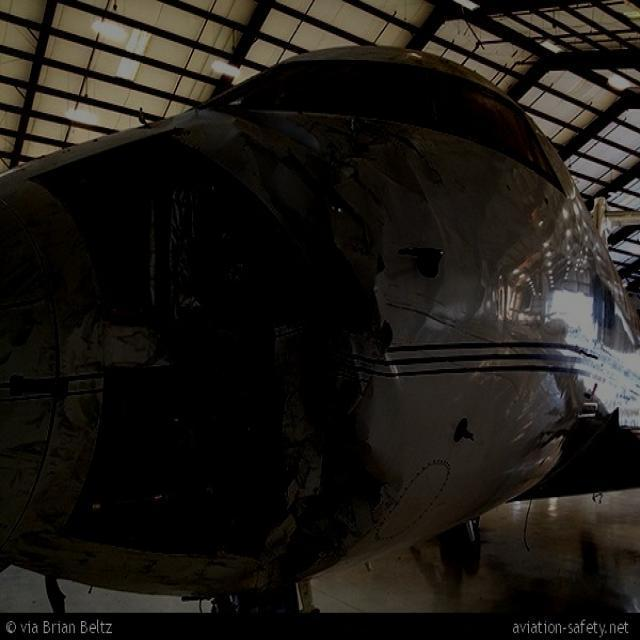dent: (390, 274, 445, 336)
